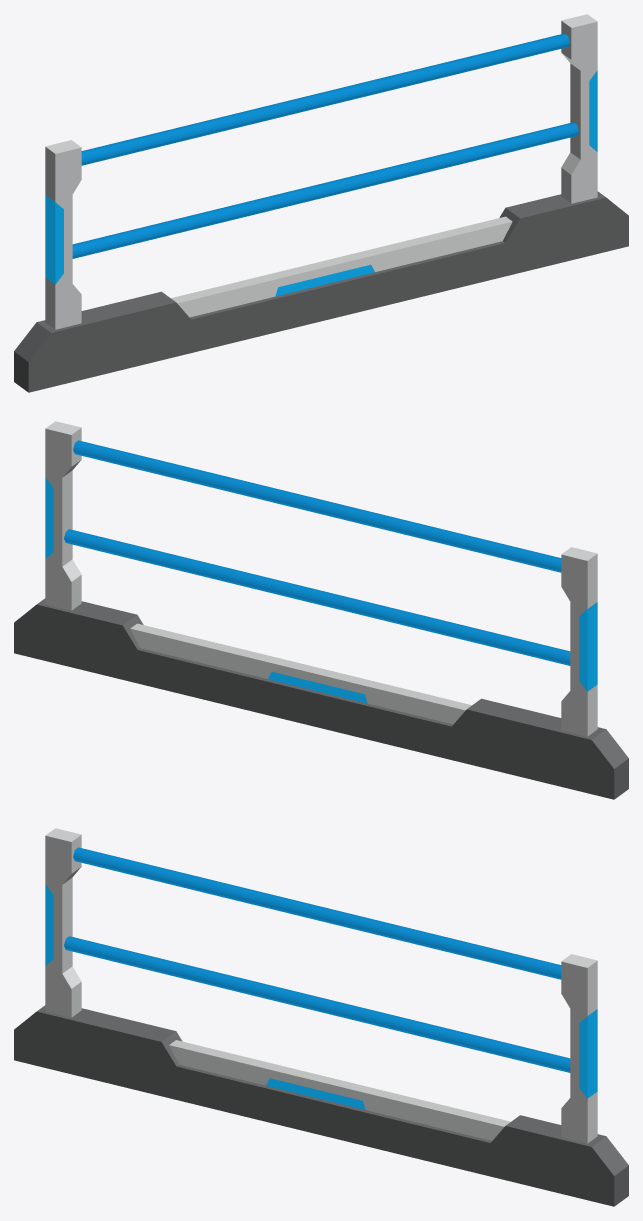
Rendered from Fence_type_A_006.glb.
3 renders of one model, top to bottom at view 1: azimuth 30°, elevation 25°; view 2: azimuth 150°, elevation 25°; view 3: azimuth 330°, elevation 25°, orthographic.
Visible parts, largest first — view 1: Fence_type_A_006; view 2: Fence_type_A_006; view 3: Fence_type_A_006.
Boxes of the visible parts, x1,y1,x2,y2 form: Fence_type_A_006: [14, 14, 628, 392]; Fence_type_A_006: [14, 421, 628, 799]; Fence_type_A_006: [14, 828, 628, 1206].
Size of the model in its own units: 3.89 by 1.42 by 0.1653.
2 materials, 2 textured.
